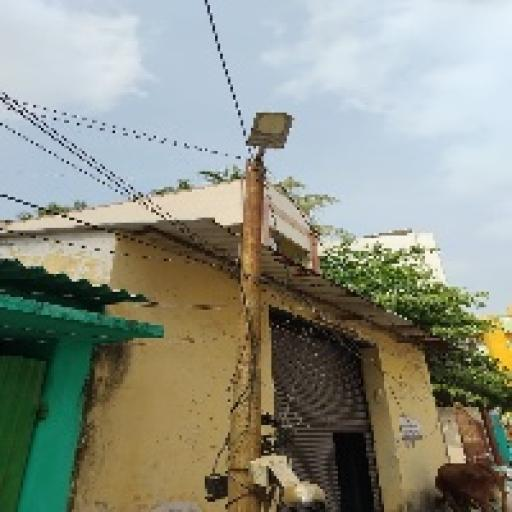Not Working: (236, 100, 310, 159)
